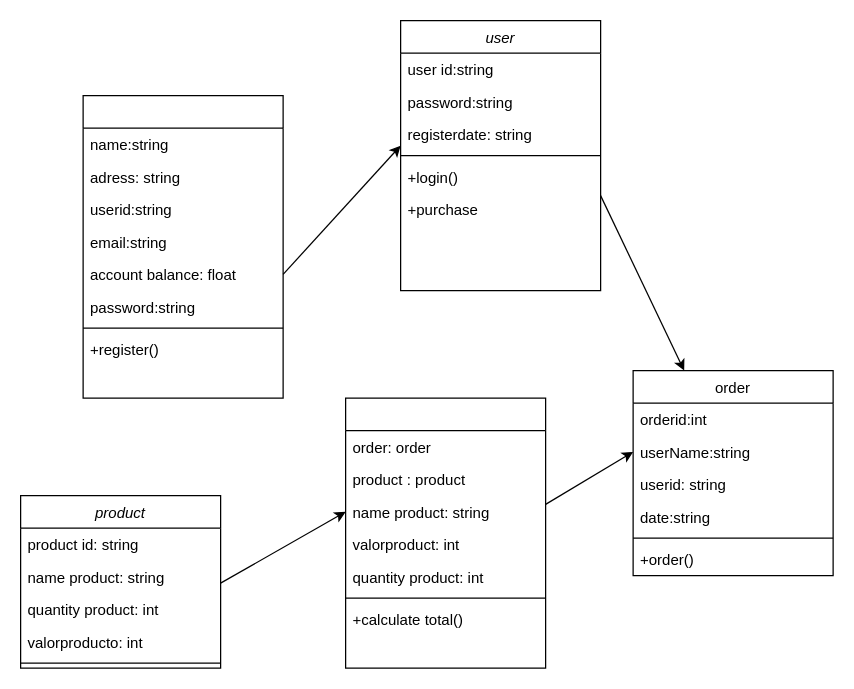
This 854x689 diagram has some shape labels left out. Here are the shapes that lost their labels. From the top down, the box of each, then its label:
(82, 94, 283, 398): registrer user
(344, 397, 546, 668): order details
